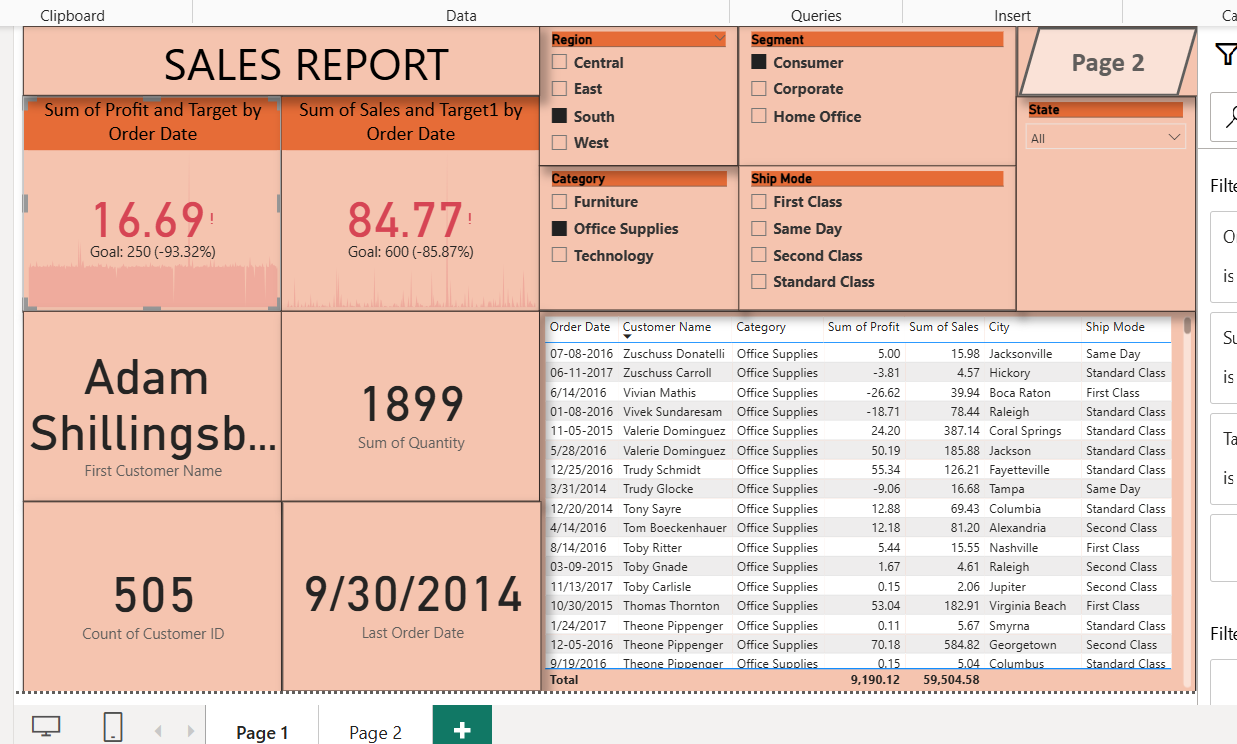

The dashboard page shown, as its layout file describes it:
{"tool":"powerbi","page":{"name":"Page 1","canvas":[1280,720],"ordinal":0},"visuals":[{"type":"kpi","fields":{"Indicator":["excel file.Profit"],"TrendLine":["excel file.Order Date"],"Goal":["excel file.Target"]},"box":[9.4,75.6,279.7,232.4],"z":0},{"type":"kpi","fields":{"Indicator":["excel file.Sales"],"TrendLine":["excel file.Order Date"],"Goal":["excel file.Target1"]},"box":[289.1,75.6,279.7,232.4],"z":1000},{"type":"tableEx","fields":{"Values":["excel file.Order Date","excel file.Customer Name","excel file.Category","excel file.Profit","excel file.Sales","excel file.City","excel file.Ship Mode"]},"box":[568.8,308,710.6,412],"z":2000},{"type":"slicer","fields":{"Values":["excel file.Category"]},"box":[568.8,151.2,217.3,156.9],"z":3000},{"type":"slicer","fields":{"Values":["excel file.Region"]},"box":[568.8,0,215.4,151.2],"z":4000},{"type":"slicer","fields":{"Values":["excel file.Segment"]},"box":[784.3,0,300.5,153.1],"z":5000},{"type":"slicer","fields":{"Values":["excel file.Ship Mode"]},"box":[784.3,151.2,300.5,156.9],"z":6000},{"type":"slicer","fields":{"Values":["excel file.State"]},"box":[1084.7,75.6,194.6,232.4],"z":7000},{"type":"card","fields":{"Values":["excel file.Customer Name"]},"box":[9.4,308,279.7,206],"z":8000},{"type":"card","fields":{"Values":["excel file.Customer ID"]},"box":[9,514,280,206],"z":9000},{"type":"card","fields":{"Values":["excel file.Quantity"]},"box":[289,308,280,206],"z":10000},{"type":"card","fields":{"Values":["excel file.Order Date"]},"box":[290,515,280,205],"z":11000},{"type":"textbox","box":[9.4,0,559.4,75.6],"z":12000},{"type":"actionButton","box":[1085.5,0,195.2,75.7],"z":12001}]}

Visuals, with their boxes in screenshot pixels (x1, y1, x2, y2):
kpi - excel file.Profit x excel file.Order Date: (left=25, top=92, right=282, bottom=306)
kpi - excel file.Sales x excel file.Order Date: (left=282, top=92, right=539, bottom=306)
tableEx - excel file.Order Date x excel file.Customer Name: (left=539, top=306, right=1192, bottom=684)
slicer - excel file.Category: (left=539, top=162, right=739, bottom=306)
slicer - excel file.Region: (left=539, top=23, right=737, bottom=162)
slicer - excel file.Segment: (left=737, top=23, right=1013, bottom=163)
slicer - excel file.Ship Mode: (left=737, top=162, right=1013, bottom=306)
slicer - excel file.State: (left=1013, top=92, right=1192, bottom=306)
card - excel file.Customer Name: (left=25, top=306, right=282, bottom=495)
card - excel file.Customer ID: (left=24, top=495, right=282, bottom=684)
card - excel file.Quantity: (left=282, top=306, right=539, bottom=495)
card - excel file.Order Date: (left=283, top=496, right=540, bottom=684)
textbox: (left=25, top=23, right=539, bottom=92)
actionButton: (left=1014, top=23, right=1193, bottom=92)
